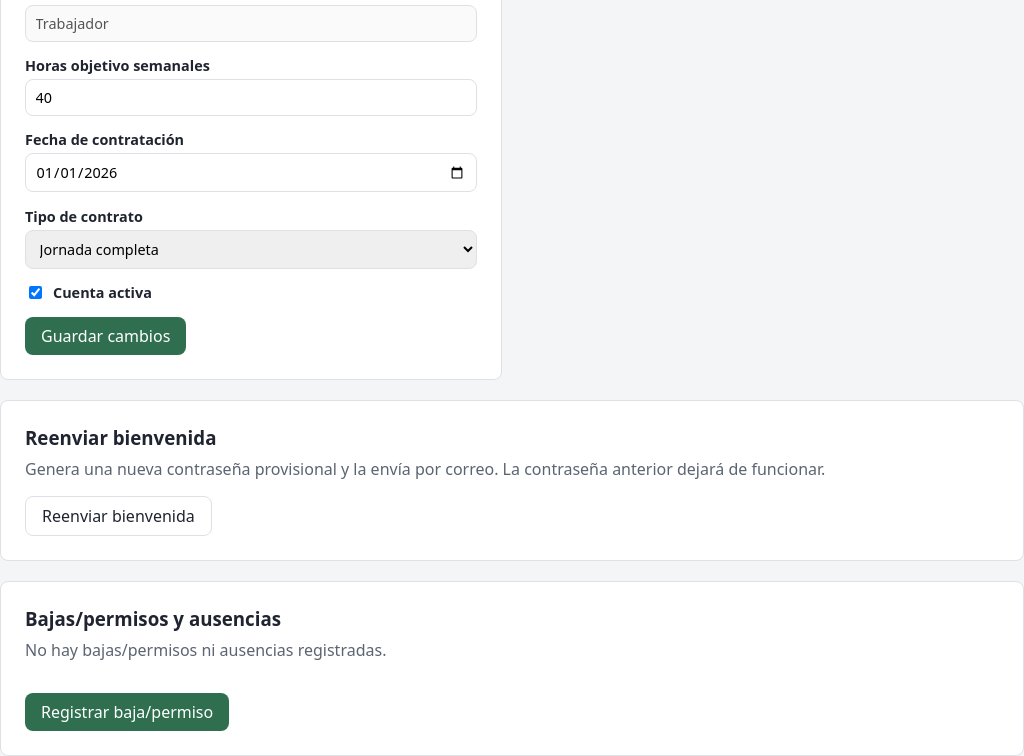
AdminUserDetail › registra una nueva baja/permiso desde el modal
(page scrolled)
Click the button "Registrar baja/permiso" at [127, 712], box [25,692,229,730]
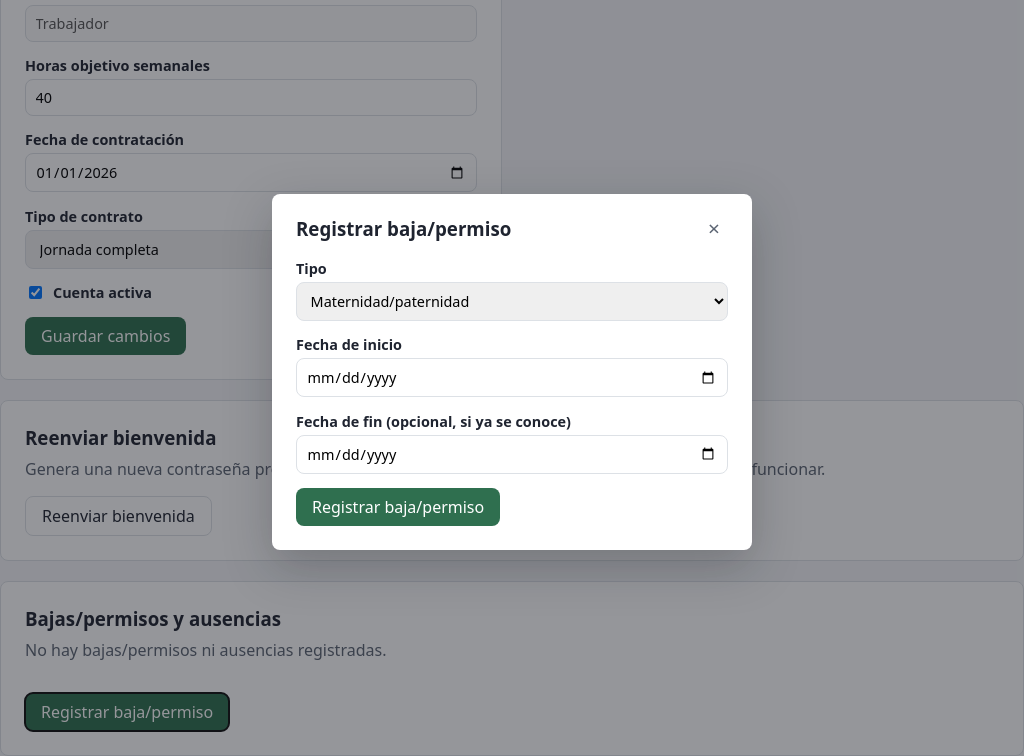
Type "2026-03-01" into the date field labelled "Fecha de inicio" at [512, 378], box [296,358,728,397]
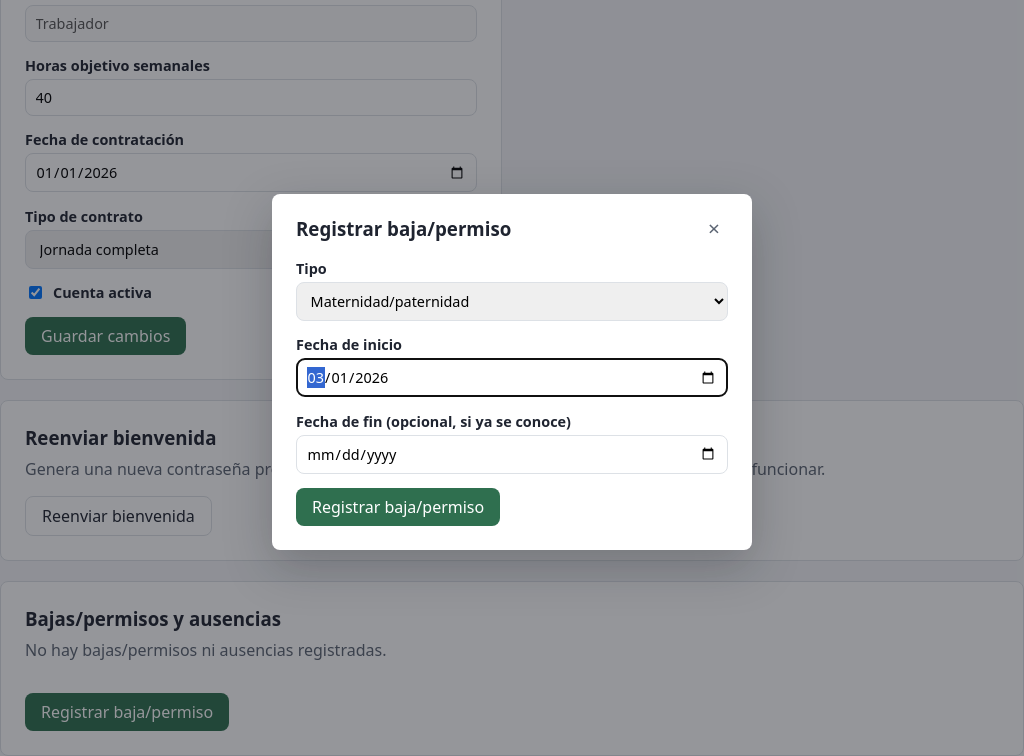
Click the button "Registrar baja/permiso" below "Fecha de fin (opcional, si ya se conoce)" at [398, 507], box [296,488,500,526]
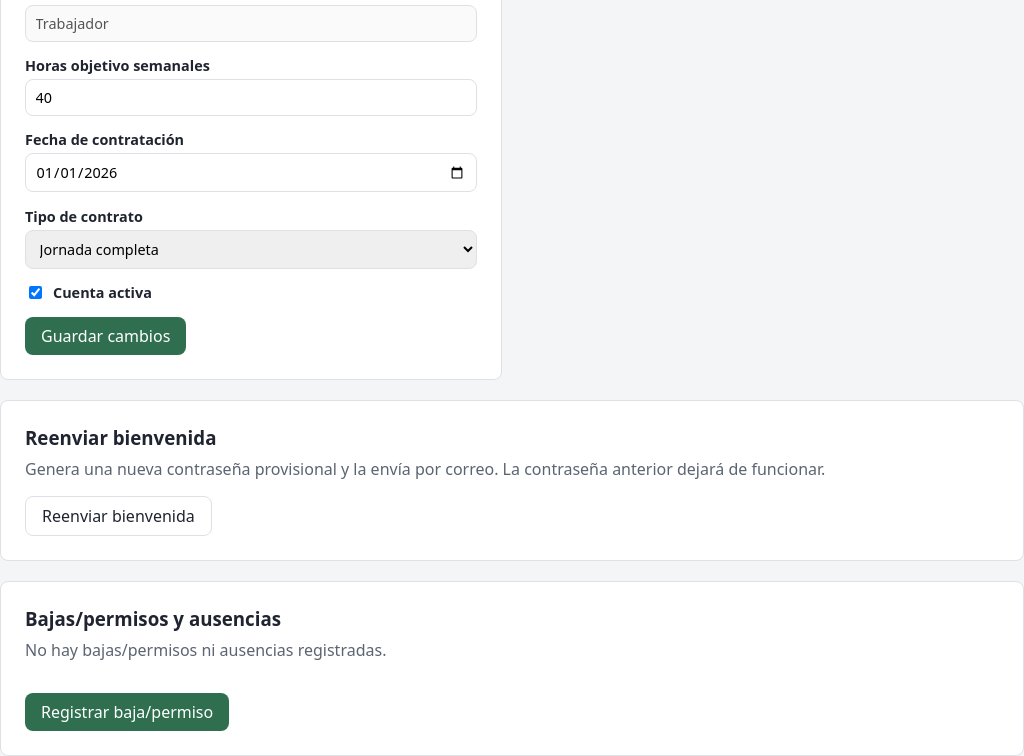
expect the dialog is gone: met
